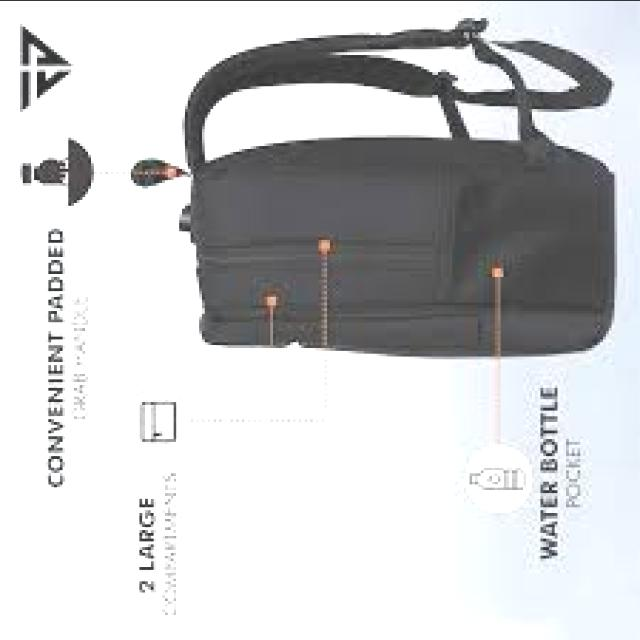backpack: (172, 18, 616, 362)
